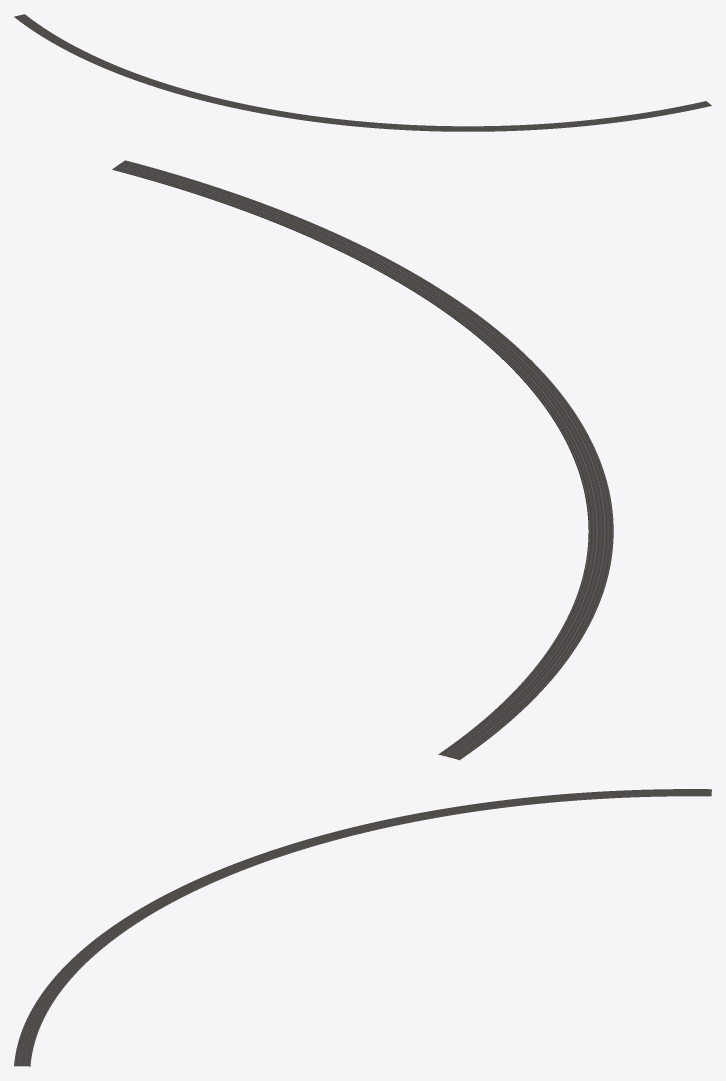
The model's file is yol+90left.fbx.
3 views of the same model, one above another, from view 1: azimuth 30°, elevation 25°; view 2: azimuth 150°, elevation 25°; view 3: azimuth 270°, elevation 25° (orthographic). The views are drawn at different scales.
Parts seen in each view (by area): view 1: road.004; view 2: road.004; view 3: road.004.
Part boxes in pixels (<box>): road.004: <box>14,14,711,131</box>; road.004: <box>112,160,613,760</box>; road.004: <box>14,789,711,1066</box>.
Size of the model in its own units: 48940 by 38.7 by 52006.
